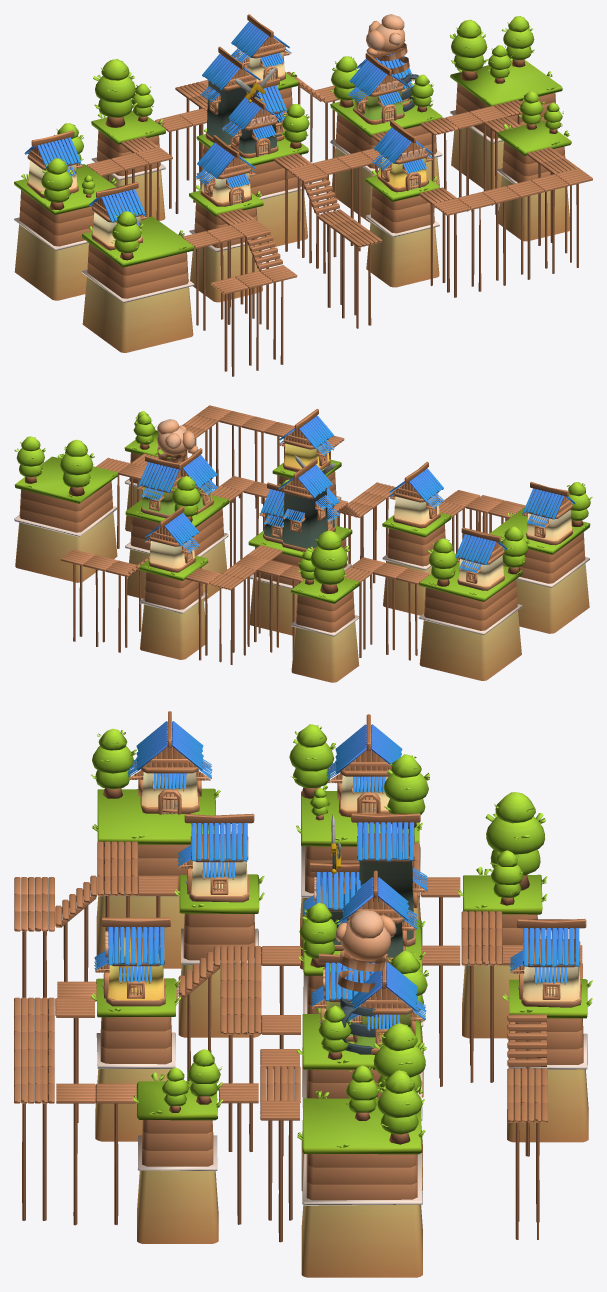
Rendered from fishing-town.glb.
3 renders of one model, top to bottom at view 1: azimuth 30°, elevation 25°; view 2: azimuth 150°, elevation 25°; view 3: azimuth 270°, elevation 25°, orthographic. The views are drawn at different scales.
Parts seen in each view (by area): view 1: Object_4; view 2: Object_4; view 3: Object_4, Object_20.
Part boxes in pixels (x1=…): Object_4: x1=14, y1=14, x2=592, y2=376; Object_4: x1=14, y1=405, x2=592, y2=682; Object_4: x1=14, y1=711, x2=592, y2=1277; Object_20: x1=118, y1=937, x2=378, y2=1054.
Bounding box in the file's own units: 21.31 × 8.06 × 14.24.
2 materials, 2 textured.
